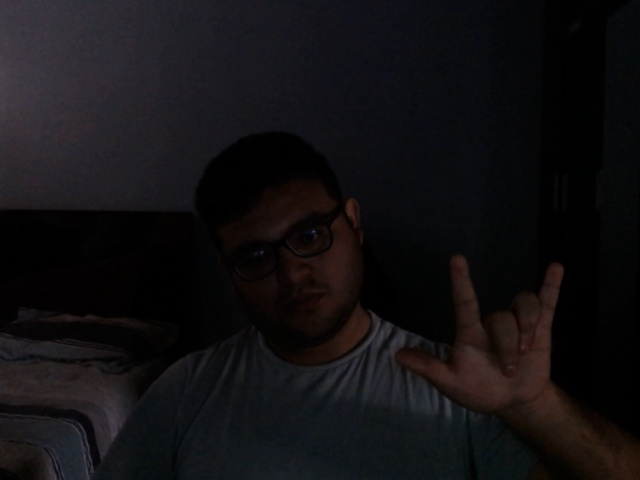I love you: (393, 248, 567, 424)
